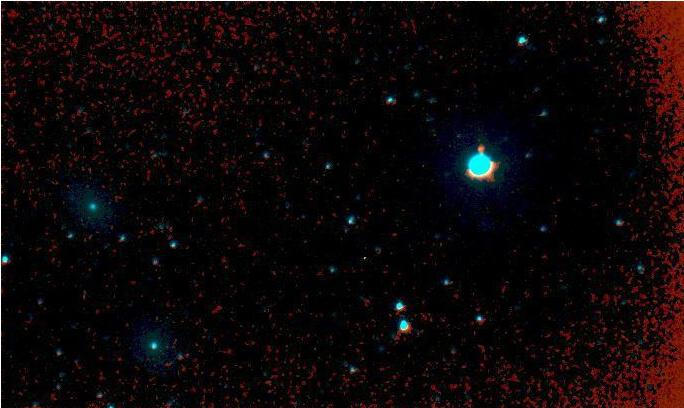star: (463, 135, 493, 165)
